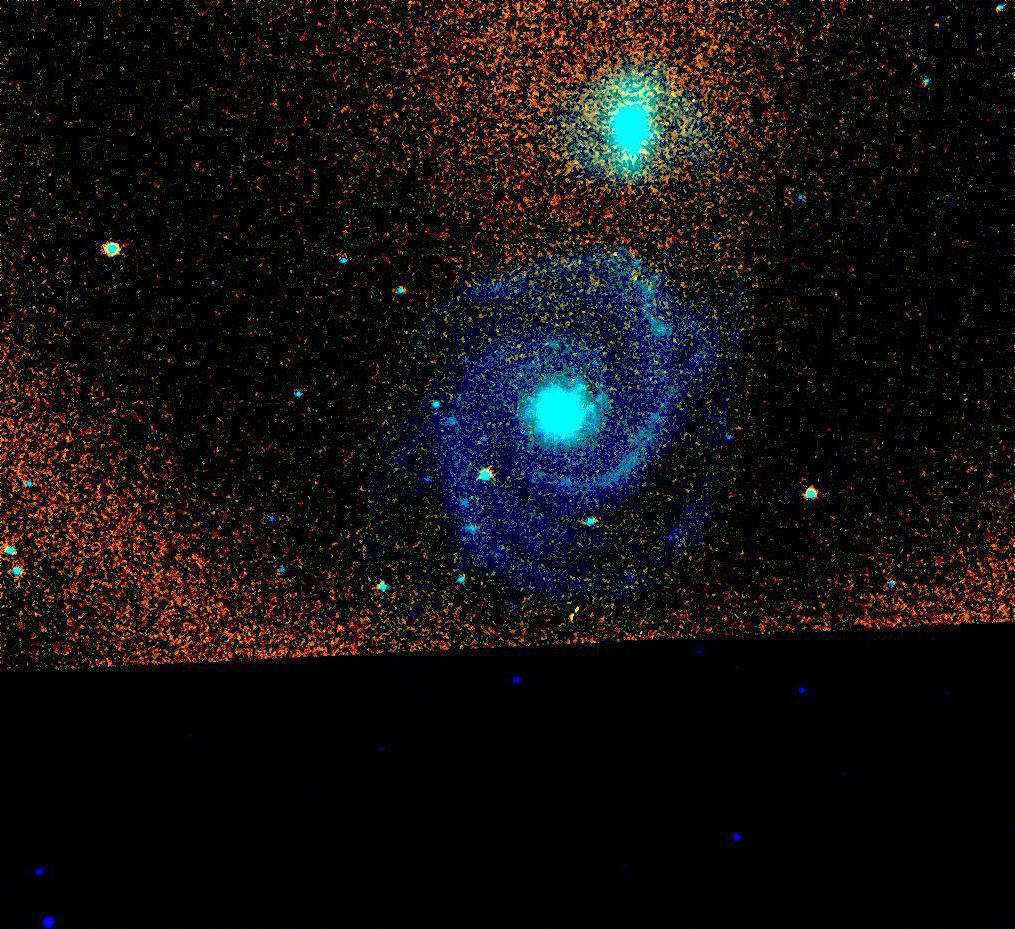star: (633, 127, 663, 157)
